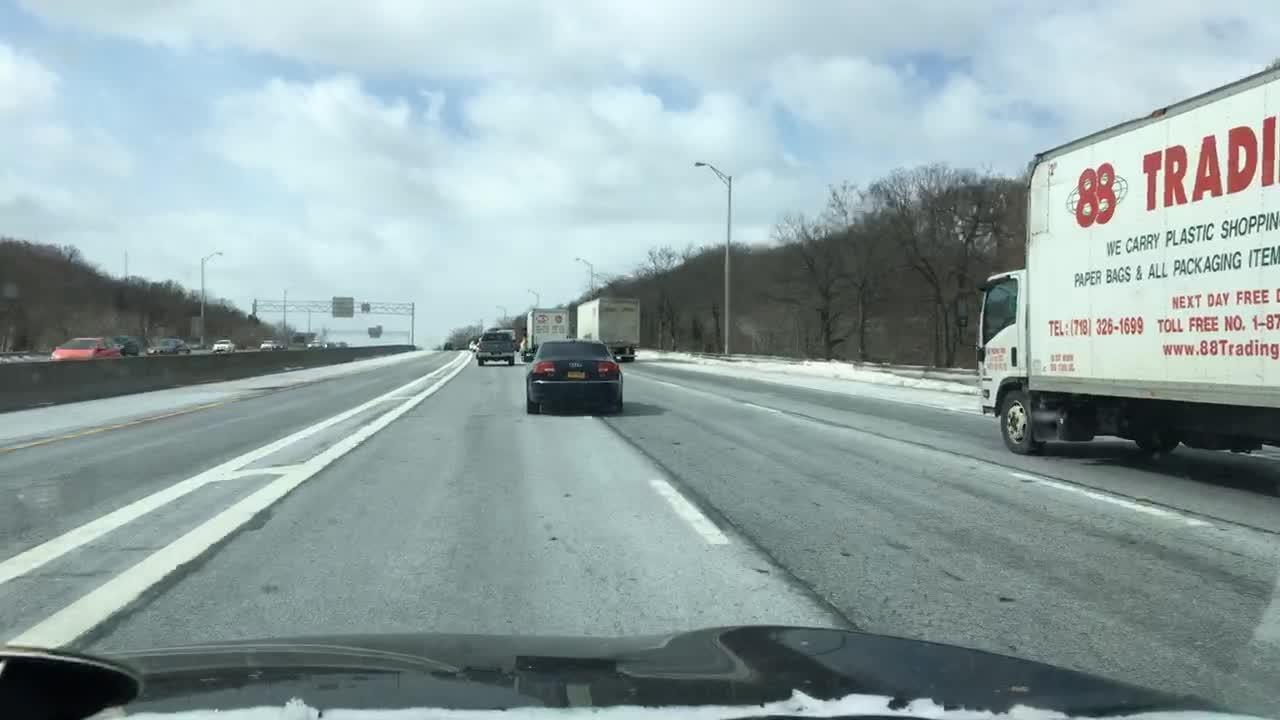Audi: (563, 358, 586, 370)
